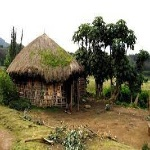House: (7, 37, 89, 107)
Uncultivated: (5, 102, 144, 150)
